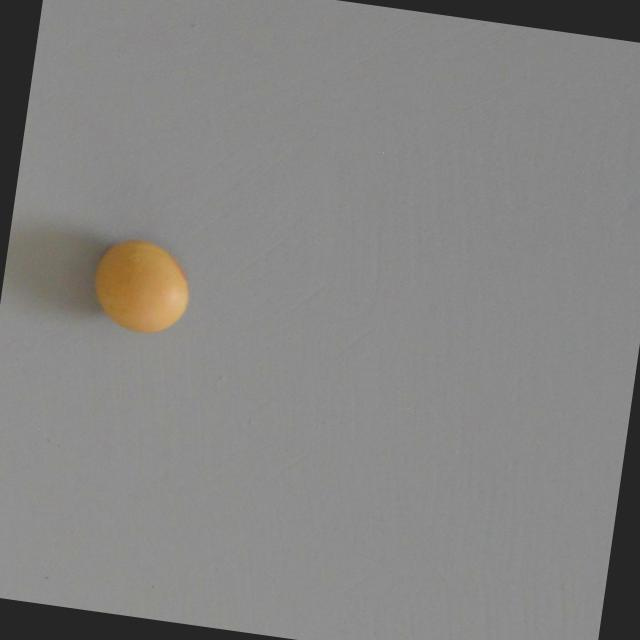cuerpos_extranos: (80, 226, 194, 343)
